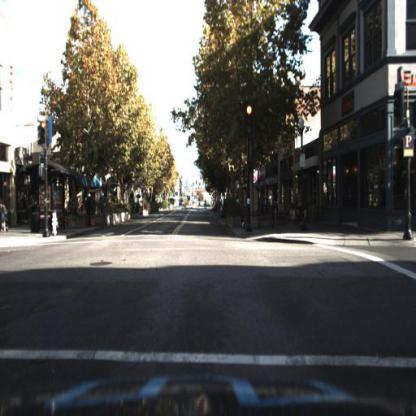pedestrian: (292, 179, 307, 230), (292, 182, 306, 230), (26, 188, 39, 235), (1, 184, 10, 237), (86, 192, 95, 230), (204, 200, 208, 217)
trafficLight-Red: (245, 101, 256, 135), (40, 116, 48, 149)
